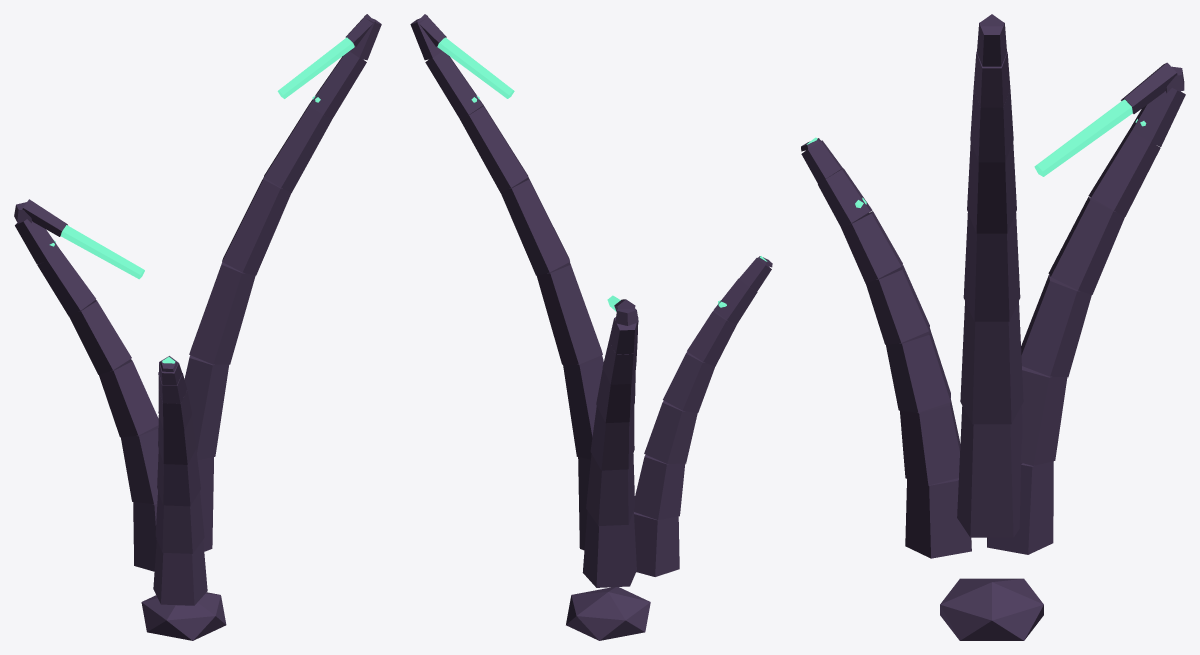
File: exo-flora-tendril.glb
3 views of the same model, side by side, from view 1: azimuth 30°, elevation 25°; view 2: azimuth 150°, elevation 25°; view 3: azimuth 270°, elevation 25° (orthographic). The views are drawn at different scales.
Visible parts, largest first — view 1: body; view 2: body; view 3: body.
Boxes of the visible parts, <box> form: body: <box>14,14,381,640</box>; body: <box>410,14,772,640</box>; body: <box>801,14,1185,640</box>.
Bounding box in the file's own units: 3.55 × 6.66 × 3.15.
